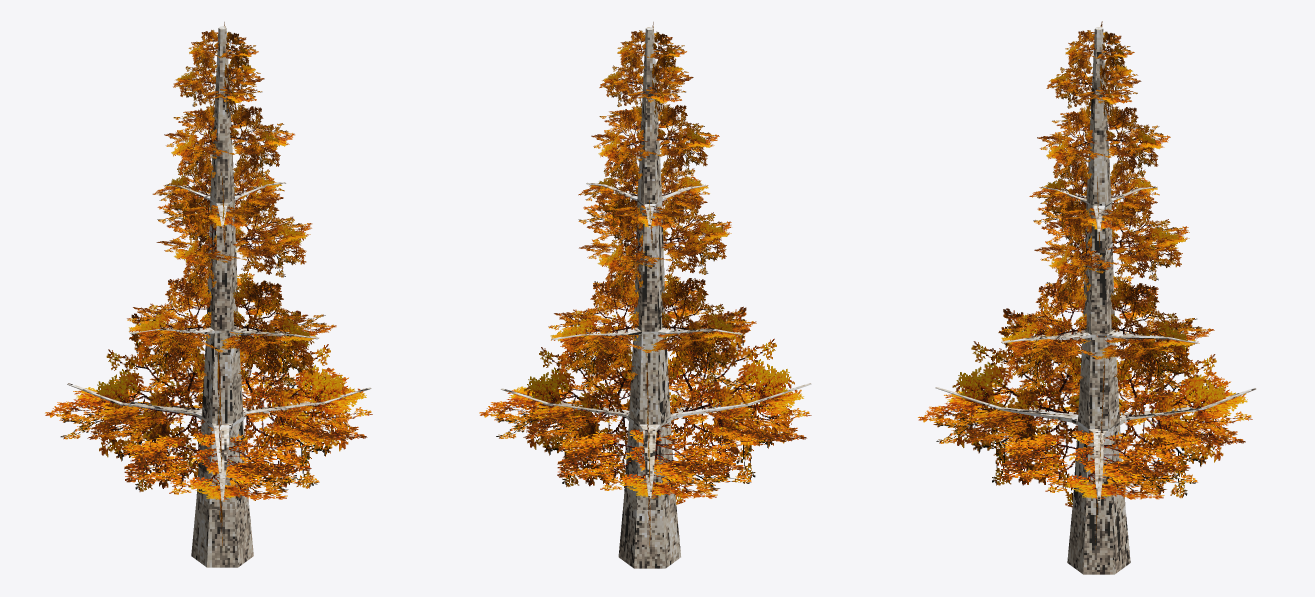
File: pixel_tree_lowpoly_yellow.fbx
The picture shows the model from 3 angles, left to right: view 1: azimuth 30°, elevation 25°; view 2: azimuth 150°, elevation 25°; view 3: azimuth 270°, elevation 25°; orthographic projection.
Parts seen in each view (by area): view 1: psx_foliage_yellow, psx_tree_log_white, psx_foliage_yellow2; view 2: psx_foliage_yellow, psx_tree_log_white, psx_foliage_yellow2; view 3: psx_foliage_yellow, psx_tree_log_white, psx_foliage_yellow2.
Part boxes in pixels (box(x1,y1,x2,y2)): psx_foliage_yellow: box(45, 22, 372, 546); psx_tree_log_white: box(67, 26, 371, 567); psx_foliage_yellow2: box(50, 30, 370, 544); psx_foliage_yellow: box(479, 22, 811, 547); psx_tree_log_white: box(501, 27, 811, 568); psx_foliage_yellow2: box(481, 23, 808, 540); psx_foliage_yellow: box(918, 21, 1252, 548); psx_tree_log_white: box(935, 27, 1255, 574); psx_foliage_yellow2: box(922, 30, 1251, 528).
Bounding box in the file's own units: 1128 × 1863 × 1302.
